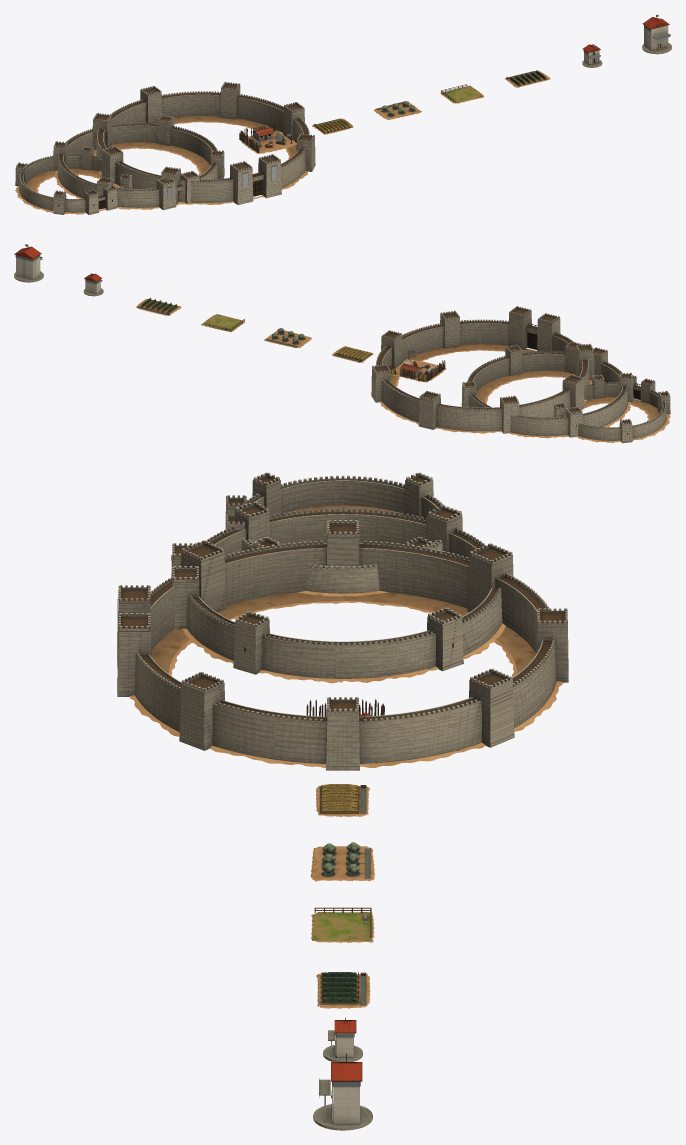
Rendered from shared-classical.glb.
3 renders of one model, top to bottom at view 1: azimuth 30°, elevation 25°; view 2: azimuth 150°, elevation 25°; view 3: azimuth 270°, elevation 25°, orthographic. The views are drawn at different scales.
Parts seen in each view (by area): view 1: LOD0.002, LOD0.001, LOD0, LOD0.003, LOD0.009, LOD0.005, LOD0.006, LOD0.007, LOD0.004, LOD0.008; view 2: LOD0.002, LOD0.001, LOD0, LOD0.003, LOD0.009, LOD0.005, LOD0.007, LOD0.006, LOD0.004, LOD0.008; view 3: LOD0.002, LOD0.001, LOD0, LOD0.009, LOD0.005, LOD0.006, LOD0.007, LOD0.004, LOD0.008.
Part boxes in pixels (x1=…): LOD0.002: x1=92, y1=81, x2=315, y2=204; LOD0.001: x1=53, y1=115, x2=224, y2=210; LOD0: x1=15, y1=146, x2=132, y2=214; LOD0.003: x1=239, y1=121, x2=296, y2=153; LOD0.009: x1=642, y1=14, x2=671, y2=54; LOD0.005: x1=374, y1=101, x2=421, y2=119; LOD0.006: x1=440, y1=84, x2=483, y2=103; LOD0.007: x1=504, y1=70, x2=550, y2=87; LOD0.004: x1=312, y1=118, x2=353, y2=134; LOD0.008: x1=582, y1=44, x2=602, y2=67; LOD0.002: x1=371, y1=306, x2=594, y2=433; LOD0.001: x1=461, y1=341, x2=633, y2=438; LOD0: x1=553, y1=375, x2=670, y2=443; LOD0.003: x1=388, y1=350, x2=446, y2=382; LOD0.009: x1=14, y1=244, x2=43, y2=282; LOD0.005: x1=264, y1=328, x2=311, y2=347; LOD0.007: x1=136, y1=297, x2=181, y2=315; LOD0.006: x1=201, y1=314, x2=245, y2=332; LOD0.004: x1=332, y1=346, x2=373, y2=362; LOD0.008: x1=83, y1=273, x2=103, y2=296; LOD0.002: x1=117, y1=520, x2=568, y2=770; LOD0.001: x1=171, y1=501, x2=505, y2=683; LOD0: x1=225, y1=472, x2=443, y2=596; LOD0.009: x1=313, y1=1053, x2=372, y2=1130; LOD0.005: x1=310, y1=842, x2=374, y2=881; LOD0.006: x1=311, y1=907, x2=374, y2=942; LOD0.007: x1=316, y1=972, x2=370, y2=1008; LOD0.004: x1=316, y1=784, x2=369, y2=816; LOD0.008: x1=323, y1=1017, x2=362, y2=1061.
Size of what is drawn, in the model's own units: 30 by 1.53 by 9.05.
3 materials, 3 textured.
